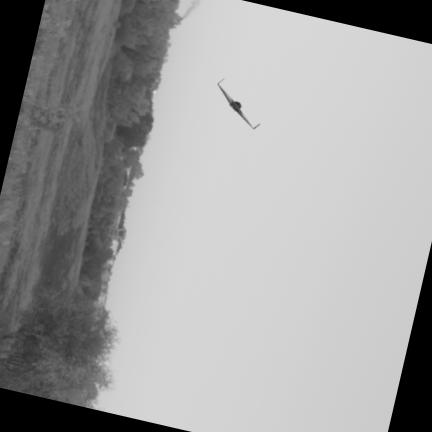Shahed: (215, 77, 260, 129)
